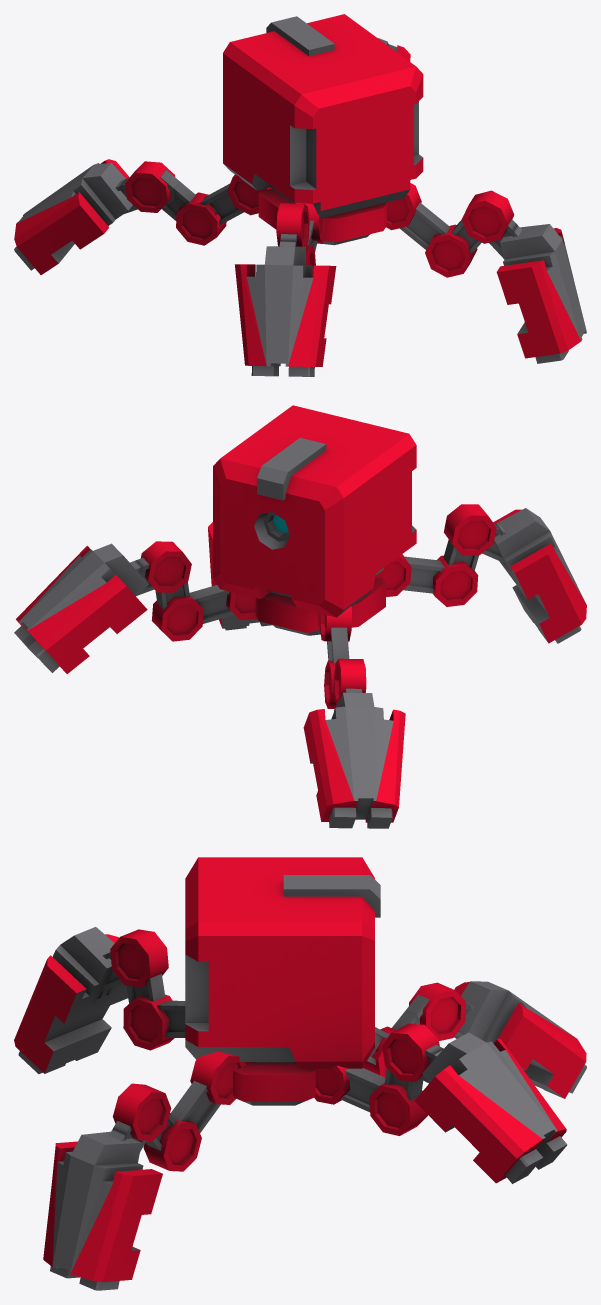
File: Monster1_Move12.obj
3 views of the same model, one above another, from view 1: azimuth 30°, elevation 25°; view 2: azimuth 150°, elevation 25°; view 3: azimuth 270°, elevation 25° (orthographic). The views are drawn at different scales.
Parts seen in each view (by area): view 1: Box006, Object021, Object017, Object025, Object027, Object020, Object018, Object019, Object028, Object026, Object024, Object022; view 2: Box006, Object025, Object013, Object021, Object024, Object016, Object015, Object023, Object022, Object014, Object026, Object028 (+1 smaller); view 3: Box006, Object017, Object013, Object021, Object025, Object018, Object024, Object020, Object023, Object015, Object016, Object014 (+4 smaller).
Boxes of the visible parts, bbox=[...] form: Box006: bbox=[223, 14, 423, 245]; Object021: bbox=[235, 246, 336, 376]; Object017: bbox=[496, 224, 586, 363]; Object025: bbox=[14, 159, 132, 274]; Object027: bbox=[160, 170, 226, 245]; Object020: bbox=[461, 190, 521, 259]; Object018: bbox=[386, 183, 450, 249]; Object019: bbox=[425, 220, 481, 277]; Object028: bbox=[115, 161, 175, 213]; Object026: bbox=[200, 174, 271, 225]; Object024: bbox=[276, 203, 309, 248]; Object022: bbox=[296, 203, 325, 251]; Box006: bbox=[213, 405, 416, 635]; Object025: bbox=[303, 692, 405, 828]; Object013: bbox=[14, 543, 148, 673]; Object021: bbox=[493, 508, 586, 643]; Object024: bbox=[443, 504, 506, 563]; Object016: bbox=[130, 541, 191, 595]; Object015: bbox=[151, 581, 203, 641]; Object023: bbox=[432, 539, 478, 606]; Object022: bbox=[375, 554, 444, 596]; Object014: bbox=[189, 585, 257, 623]; Object026: bbox=[319, 606, 351, 663]; Object028: bbox=[333, 658, 366, 704]; Box006: bbox=[185, 857, 380, 1105]; Object017: bbox=[43, 1131, 162, 1290]; Object013: bbox=[414, 1032, 567, 1183]; Object021: bbox=[14, 927, 128, 1073]; Object025: bbox=[454, 981, 586, 1098]; Object018: bbox=[170, 1051, 245, 1132]; Object024: bbox=[101, 929, 168, 991]; Object020: bbox=[109, 1083, 171, 1151]; Object023: bbox=[123, 974, 174, 1050]; Object015: bbox=[369, 1068, 427, 1135]; Object016: bbox=[382, 1023, 443, 1083]; Object014: bbox=[312, 1065, 385, 1112].
Size of the model in its own units: 158 by 109 by 178.
